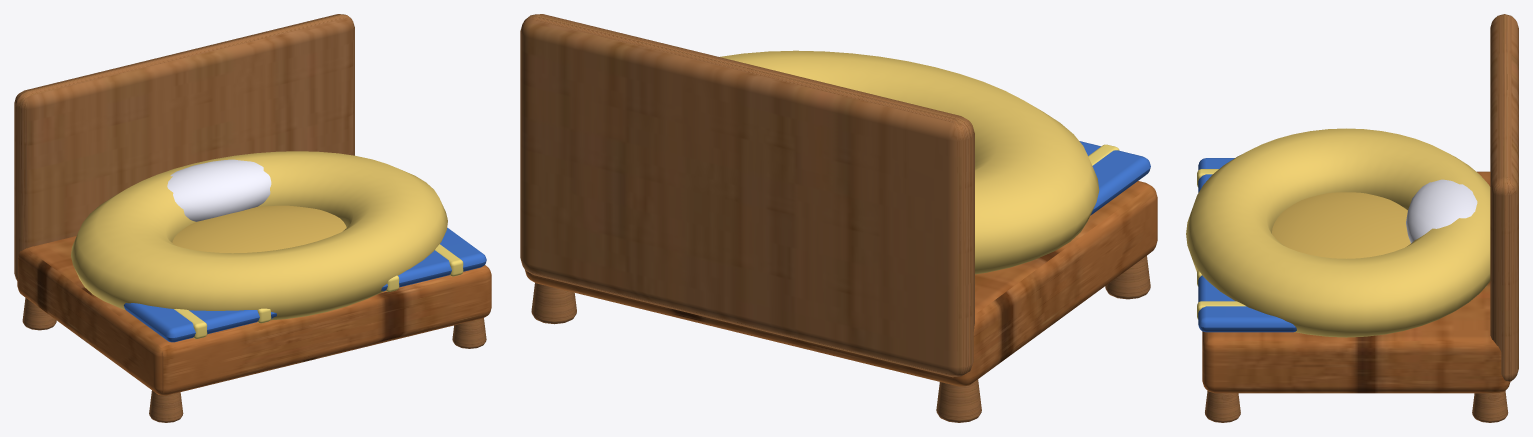
Rendered from nestbed.glb.
The picture shows the model from 3 angles, left to right: view 1: azimuth 30°, elevation 25°; view 2: azimuth 150°, elevation 25°; view 3: azimuth 270°, elevation 25°; orthographic projection. The views are drawn at different scales.
Visible parts, largest first — view 1: headboard, nest, bed_base, nest_middle, pillow, blanket, bed_leg, bed_leg.002, bed_leg.001; view 2: headboard, nest, bed_base, blanket, bed_leg.001, bed_leg.003, bed_leg; view 3: nest, bed_base, headboard, nest_middle, blanket, pillow, bed_leg.002, bed_leg.003.
Boxes of the visible parts, x1=… form: headboard: x1=14, y1=14, x2=354, y2=280; nest: x1=71, y1=151, x2=447, y2=320; bed_base: x1=17, y1=236, x2=491, y2=395; nest_middle: x1=172, y1=205, x2=346, y2=253; pillow: x1=167, y1=159, x2=271, y2=221; blanket: x1=123, y1=228, x2=486, y2=342; bed_leg: x1=149, y1=390, x2=183, y2=422; bed_leg.002: x1=452, y1=318, x2=486, y2=348; bed_leg.001: x1=22, y1=298, x2=56, y2=330; headboard: x1=520, y1=14, x2=974, y2=377; nest: x1=720, y1=50, x2=1099, y2=274; bed_base: x1=525, y1=181, x2=1157, y2=386; blanket: x1=1079, y1=141, x2=1150, y2=215; bed_leg.001: x1=936, y1=379, x2=981, y2=422; bed_leg.003: x1=531, y1=283, x2=576, y2=324; bed_leg: x1=1105, y1=256, x2=1150, y2=299; nest: x1=1186, y1=128, x2=1490, y2=337; bed_base: x1=1202, y1=171, x2=1510, y2=393; headboard: x1=1490, y1=14, x2=1518, y2=381; nest_middle: x1=1272, y1=192, x2=1410, y2=258; blanket: x1=1198, y1=158, x2=1296, y2=332; pillow: x1=1406, y1=179, x2=1477, y2=243; bed_leg.002: x1=1205, y1=391, x2=1240, y2=422; bed_leg.003: x1=1472, y1=391, x2=1508, y2=422.
Bounding box in the file's own units: 2.05 × 1.3 × 1.62.
7 materials, 2 textured.
